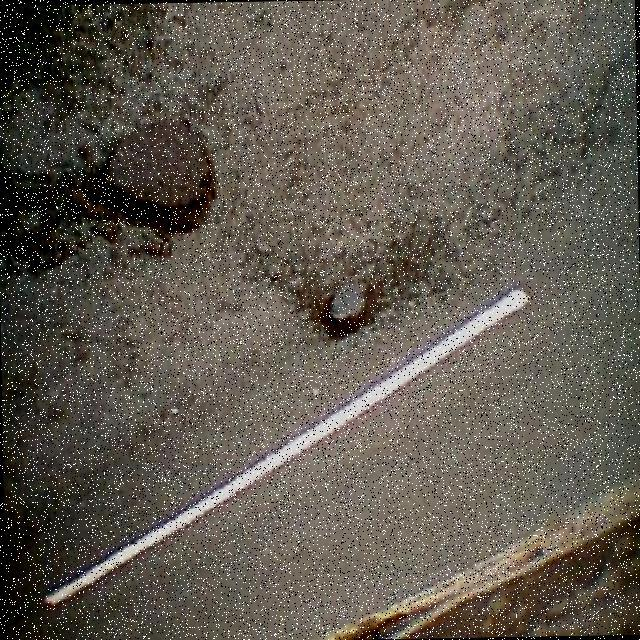Pothole: (93, 119, 215, 234), (318, 281, 372, 341)
